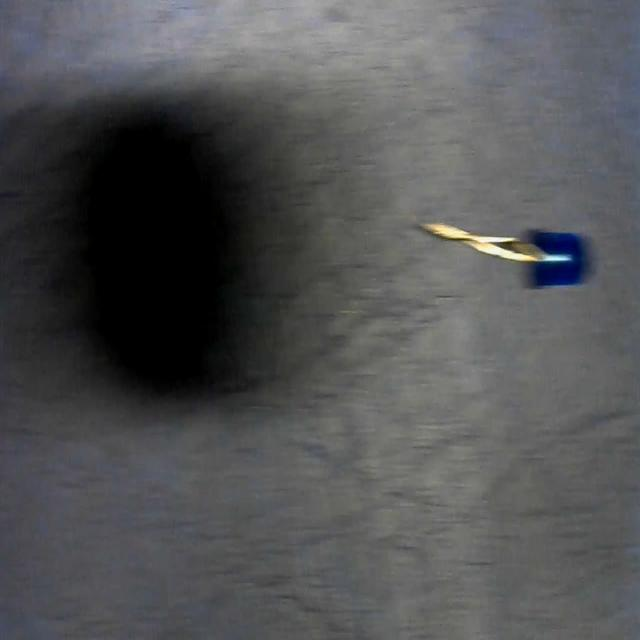LED: (417, 213, 585, 290)
